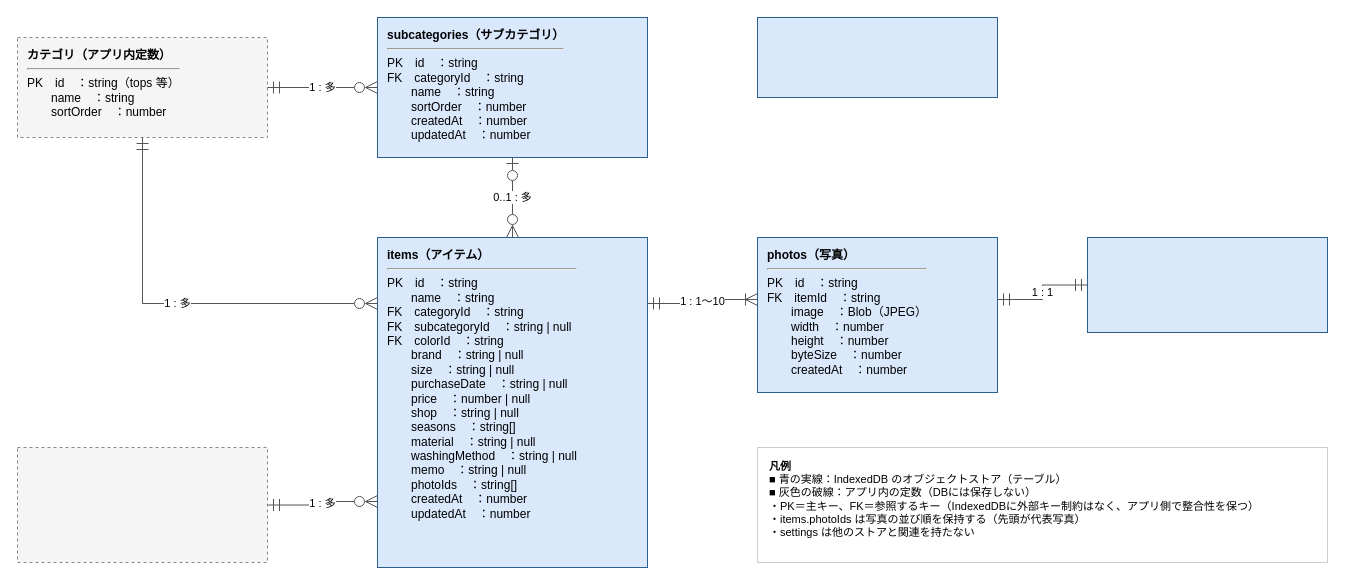
The diagram is 1345 pixels wide and 585 high, and some of its shapes have lost their labels. Each missing label, with the centre of its shape:
settings（設定） PK key ：string value ：任意: point 877,57
thumbnails（一覧用画像） PK/FK photoId ：string image ：Blob（JPEG） byteSize ：number: point 1207,284
ベースカラー（アプリ内定数） PK id ：string（white 等） name ：string hex ：string sortOrder ：number: point 142,504
